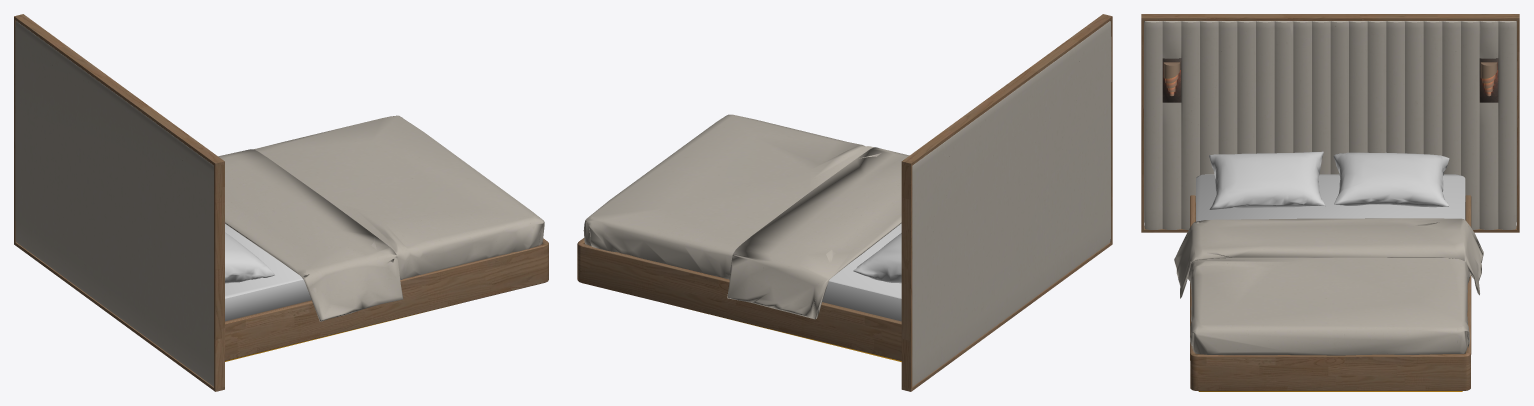
Rendered from bed_01.glb.
3 renders of one model, left to right at view 1: azimuth 30°, elevation 25°; view 2: azimuth 150°, elevation 25°; view 3: azimuth 270°, elevation 25°, orthographic. The views are drawn at different scales.
Visible parts, largest first — view 1: Object_6, Object_2, Object_8; view 2: Object_6, Object_2, Object_8; view 3: Object_6, Object_8, Object_2, Object_3, Object_4.
Boxes of the visible parts, <box> form: Object_6: <box>15,21,544,386</box>; Object_2: <box>14,14,548,391</box>; Object_8: <box>225,224,311,321</box>; Object_6: <box>583,21,1111,386</box>; Object_2: <box>577,14,1112,391</box>; Object_8: <box>822,223,901,321</box>; Object_6: <box>1144,21,1516,355</box>; Object_8: <box>1196,151,1465,221</box>; Object_2: <box>1141,14,1519,390</box>; Object_3: <box>1162,58,1498,102</box>; Object_4: <box>1163,62,1497,96</box>.
Bounding box in the file's own units: 8.17 × 4.94 × 7.87.
Materials: 6 (4 with a texture image).
